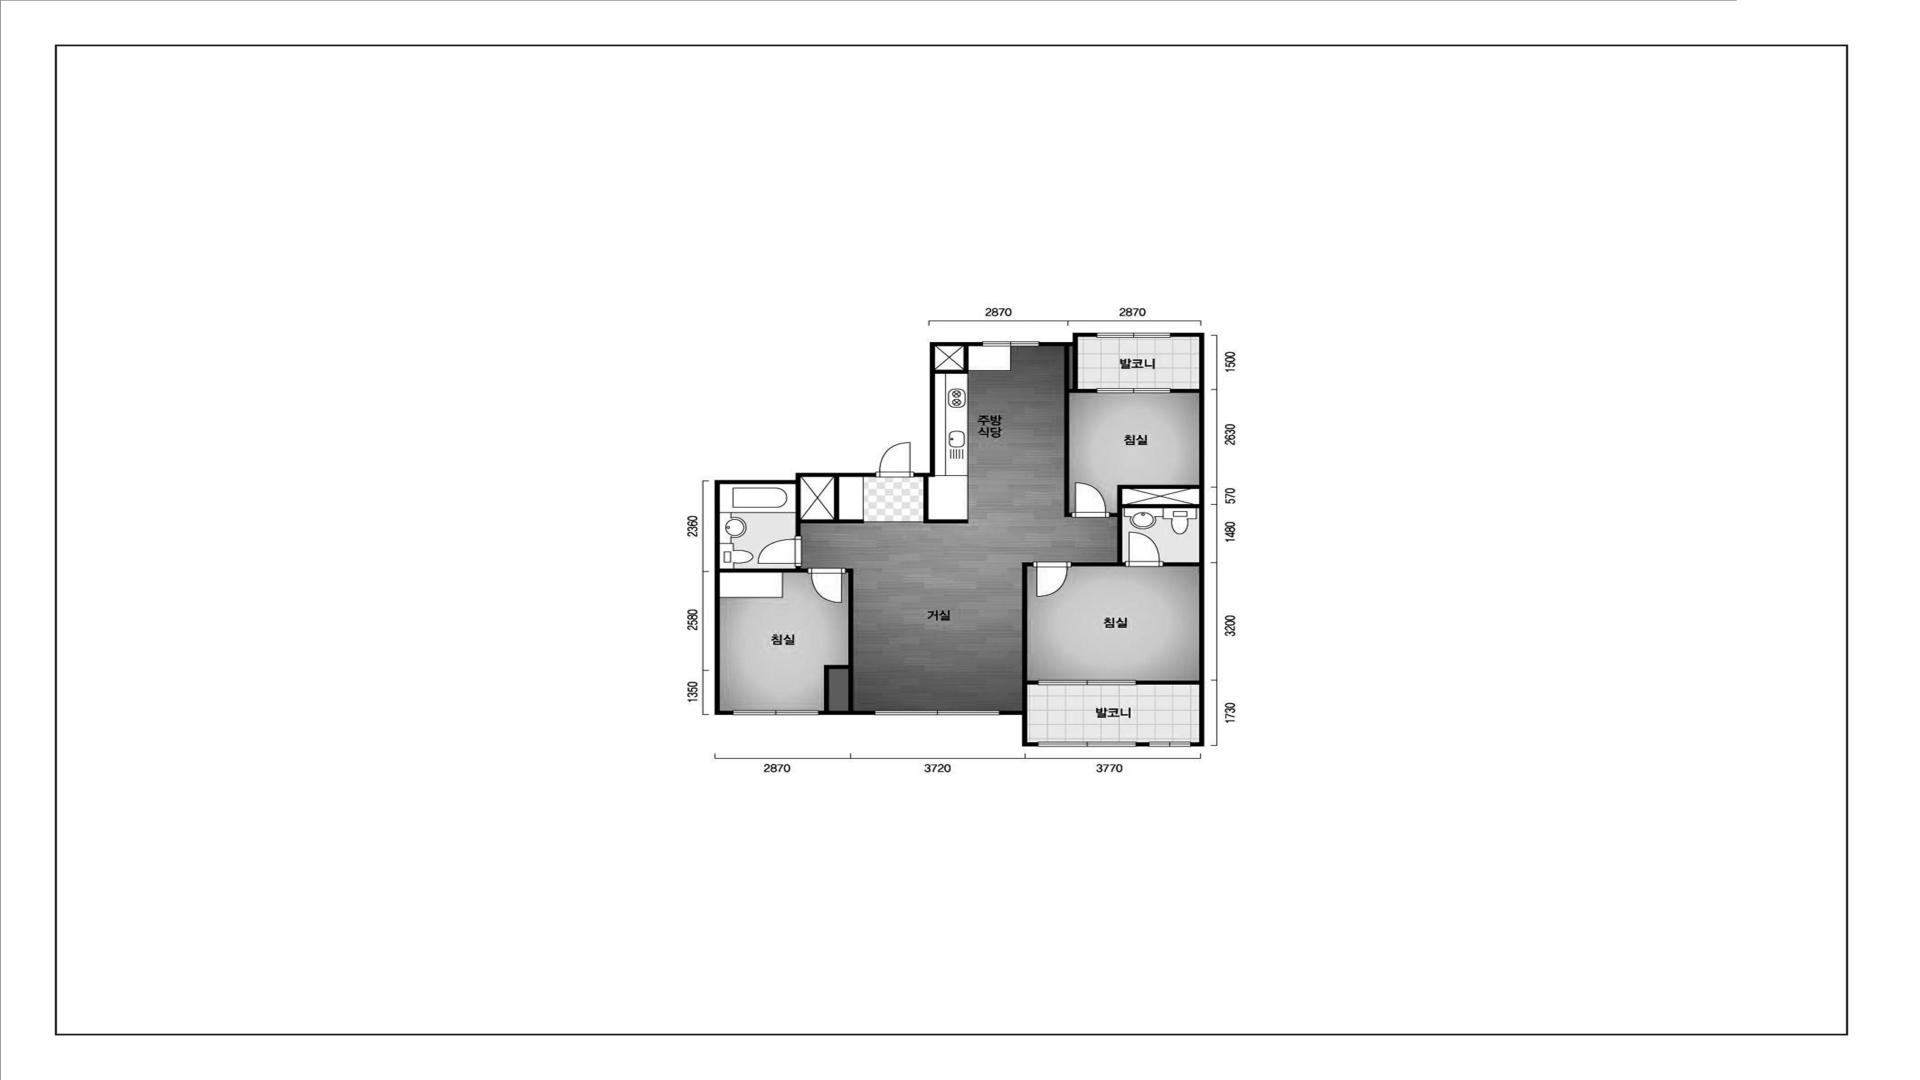door: (876, 442, 914, 477), (807, 568, 845, 604), (1072, 483, 1110, 518), (1125, 531, 1163, 567), (1033, 562, 1071, 597), (757, 535, 802, 566)
wall: (1199, 332, 1204, 742), (1022, 562, 1033, 711), (1064, 347, 1072, 517), (715, 484, 720, 715), (845, 568, 853, 711), (930, 347, 935, 477), (720, 566, 807, 572), (1117, 489, 1122, 563), (1117, 485, 1199, 489), (715, 480, 795, 484), (796, 473, 876, 477), (1122, 504, 1199, 508), (1071, 562, 1125, 567), (795, 484, 800, 537), (1135, 680, 1199, 684), (800, 520, 864, 524), (923, 477, 928, 524), (818, 711, 874, 715), (1072, 347, 1077, 389), (824, 669, 829, 711), (833, 477, 839, 520), (930, 342, 982, 345), (1039, 342, 1073, 347), (935, 369, 968, 375), (1022, 715, 1027, 746), (928, 520, 968, 524), (1163, 562, 1199, 566), (824, 665, 848, 670), (1170, 332, 1199, 336), (1069, 389, 1097, 393), (1171, 389, 1199, 393), (1000, 711, 1027, 715), (1072, 332, 1097, 336), (964, 345, 968, 371), (914, 473, 930, 477), (1072, 336, 1077, 347), (720, 711, 733, 715), (1135, 742, 1149, 746), (1191, 742, 1204, 746), (1027, 680, 1038, 684), (795, 476, 800, 484), (1027, 742, 1038, 746), (1109, 513, 1117, 517)
window: (1038, 680, 1135, 686), (1038, 741, 1135, 746), (874, 711, 1000, 715), (1097, 388, 1171, 393), (1097, 332, 1170, 338), (733, 711, 819, 715), (982, 342, 1039, 347), (1149, 741, 1191, 746)
